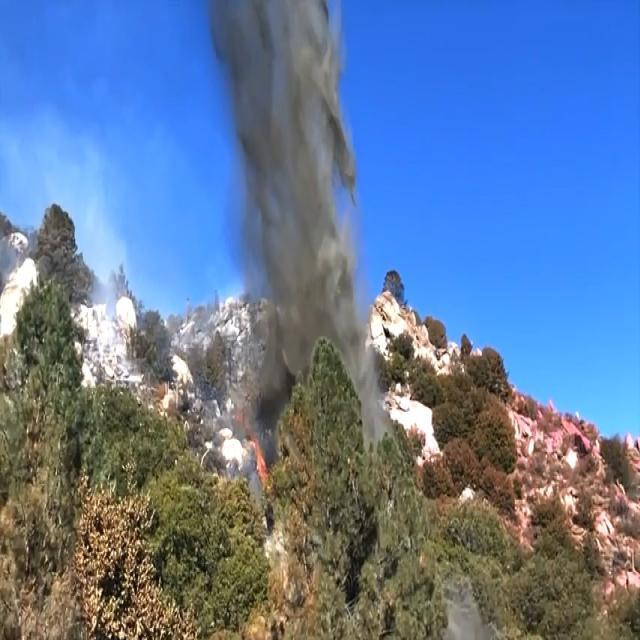Fire: (230, 406, 272, 496)
